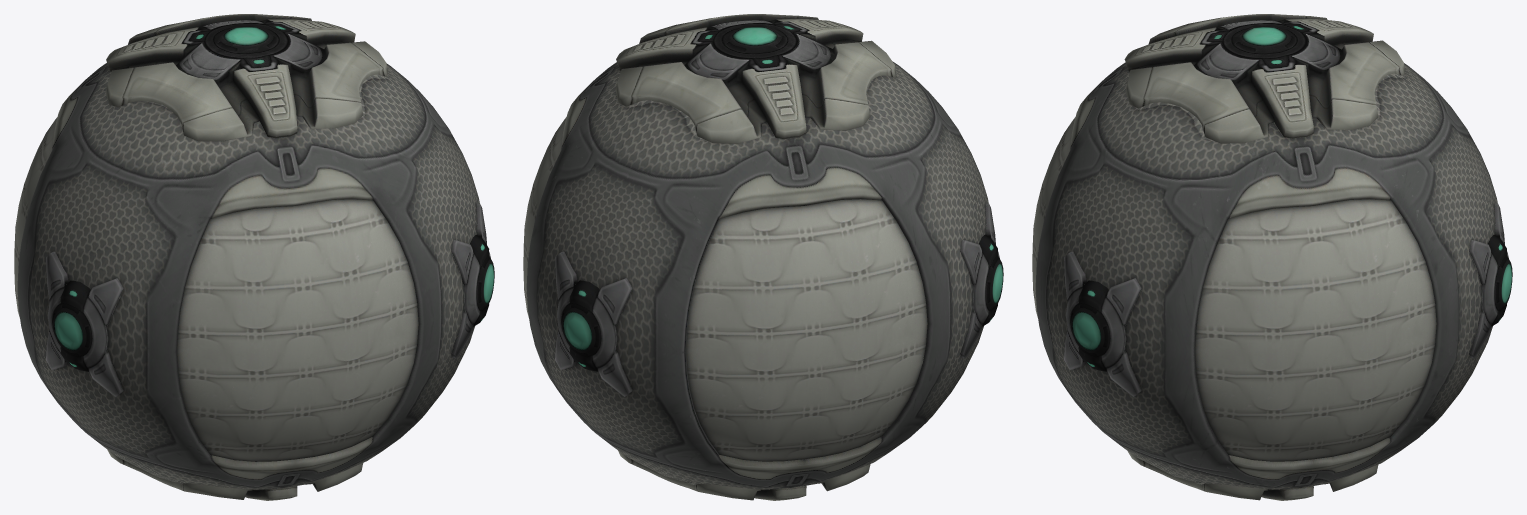
The model's file is Ball.obj.
3 views of the same model, side by side, from view 1: azimuth 30°, elevation 25°; view 2: azimuth 150°, elevation 25°; view 3: azimuth 270°, elevation 25° (orthographic).
Visible parts, largest first — view 1: Mesh0; view 2: Mesh0; view 3: Mesh0.
Part boxes in pixels (x1,y1,x2,y2): Mesh0: (14, 14, 494, 500); Mesh0: (523, 14, 1003, 500); Mesh0: (1032, 14, 1512, 500).
Bounding box in the file's own units: 185 × 189 × 185.
Materials: 1 (1 with a texture image).
